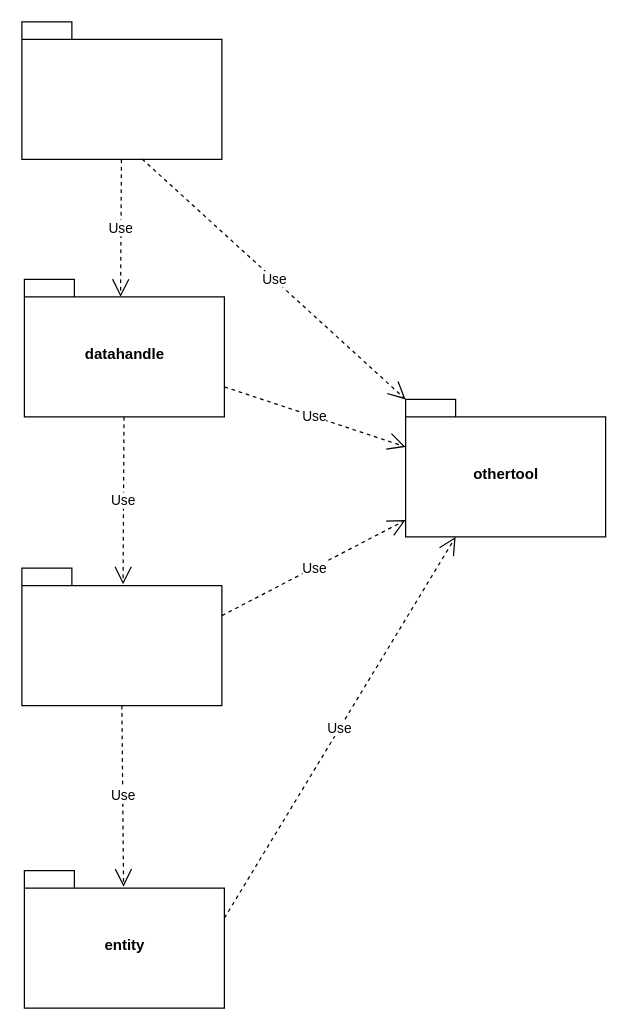
This 628x1030 diagram has some shape labels left out. The shapes that lost their labels are listed below. From the top down, each one's centre as x and y in pixels, then its label:
At [121,90]: "gui".
At [121,636]: "crawlertool".
